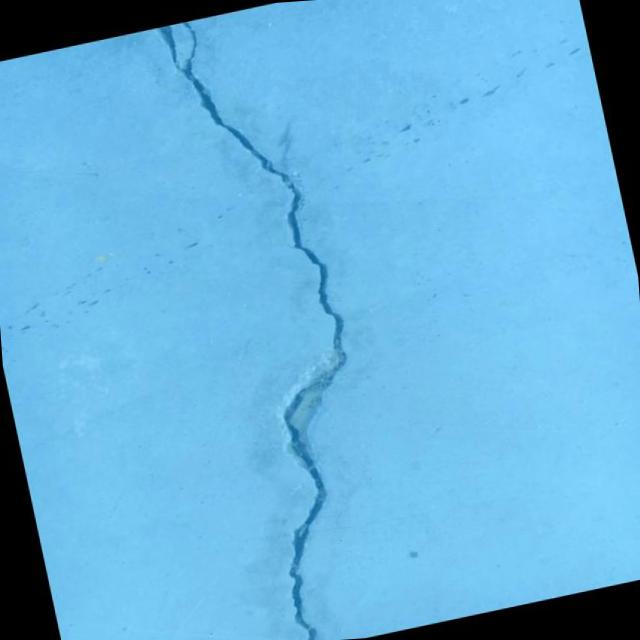crack: (155, 0, 410, 640)
